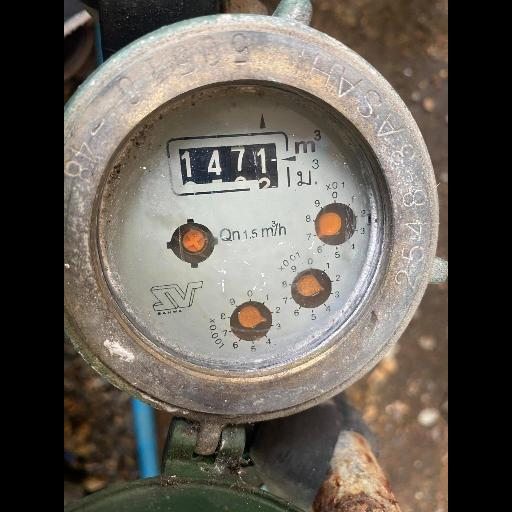1: (253, 143, 275, 190), (178, 148, 200, 186)
4: (202, 145, 228, 184)
7: (228, 144, 254, 183)
border_water_meter_number: (164, 128, 298, 197)
